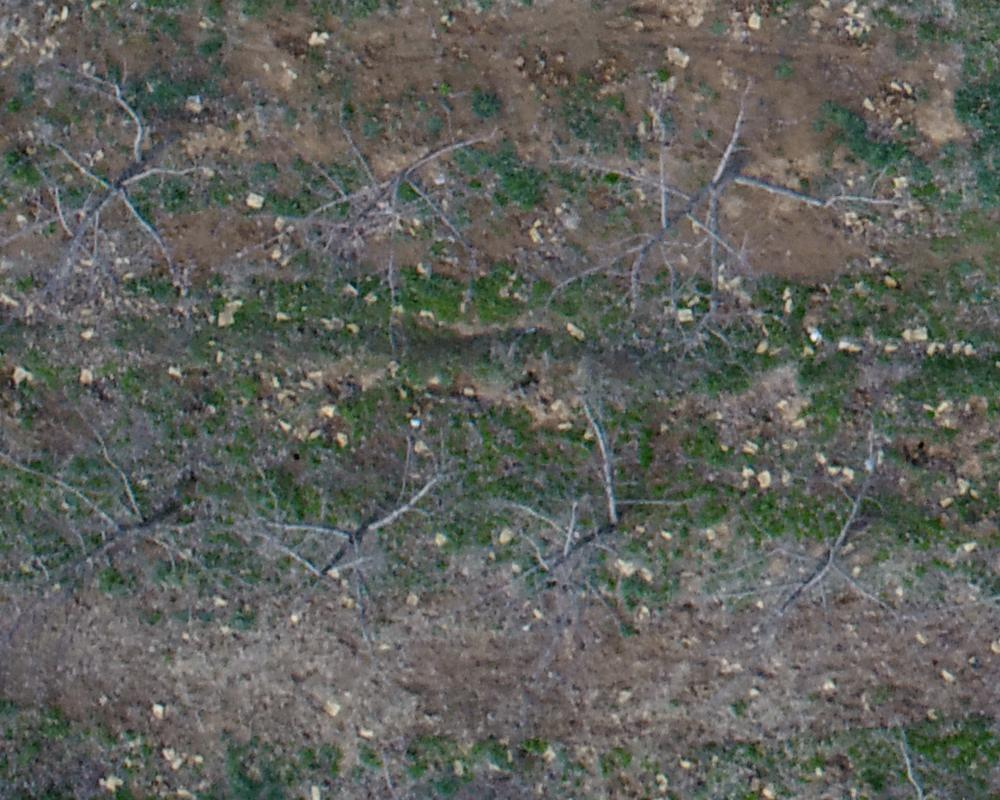apple: (535, 107, 901, 330), (229, 101, 496, 314), (484, 400, 702, 641), (224, 440, 446, 645), (10, 409, 218, 627), (10, 76, 202, 310), (720, 454, 906, 649)
